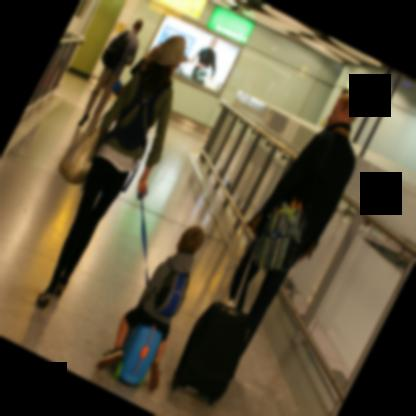backpack: (112, 73, 170, 192), (153, 270, 190, 318), (101, 29, 130, 68)
handbag: (248, 202, 311, 271), (57, 111, 108, 185)
suitcase: (170, 223, 262, 403), (112, 322, 161, 385)
